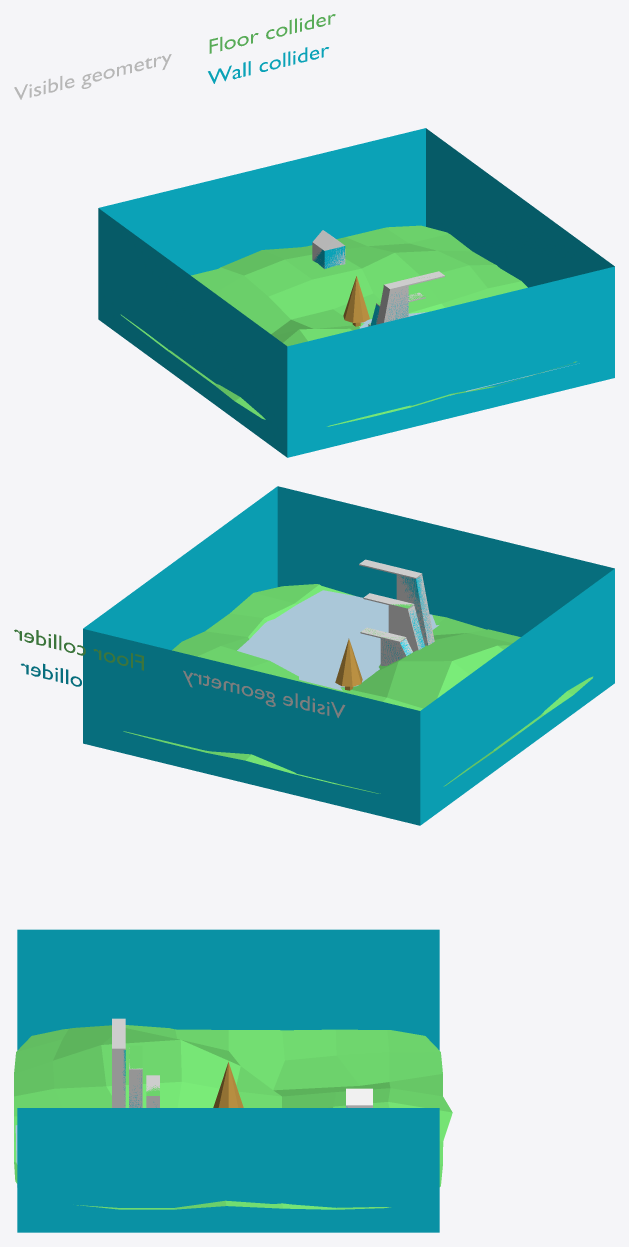
3 views of the same model, one above another, from view 1: azimuth 30°, elevation 25°; view 2: azimuth 150°, elevation 25°; view 3: azimuth 270°, elevation 25° (orthographic). The views are drawn at different scales.
Parts seen in each view (by area): view 1: wall_collide, floor_collide, diveboards, Labelling, tree, Font, house, Font.001; view 2: wall_collide, floor_collide, water, diveboards, wall_collide.001, Labelling, tree, Font, Font.001; view 3: wall_collide, floor_collide, diveboards, tree, house.
Part boxes in pixels (bbox=[...]): wall_collide: bbox=[98, 128, 614, 457]; floor_collide: bbox=[120, 225, 576, 426]; diveboards: bbox=[368, 271, 444, 326]; Labelling: bbox=[14, 54, 171, 99]; tree: bbox=[343, 276, 369, 326]; Font: bbox=[208, 47, 328, 83]; house: bbox=[312, 230, 345, 268]; Font.001: bbox=[209, 14, 335, 53]; wall_collide: bbox=[83, 486, 614, 825]; floor_collide: bbox=[123, 584, 593, 793]; water: bbox=[237, 590, 438, 690]; diveboards: bbox=[359, 559, 434, 665]; wall_collide.001: bbox=[381, 575, 432, 664]; Labelling: bbox=[183, 670, 345, 717]; tree: bbox=[335, 638, 362, 690]; Font: bbox=[21, 663, 145, 701]; Font.001: bbox=[14, 629, 143, 670]; wall_collide: bbox=[17, 929, 439, 1232]; floor_collide: bbox=[14, 1025, 452, 1209]; diveboards: bbox=[112, 1018, 159, 1107]; tree: bbox=[213, 1062, 243, 1107]; house: bbox=[346, 1088, 372, 1107].
Bounding box in the file's own units: 10.28 × 5.08 × 14.01.
